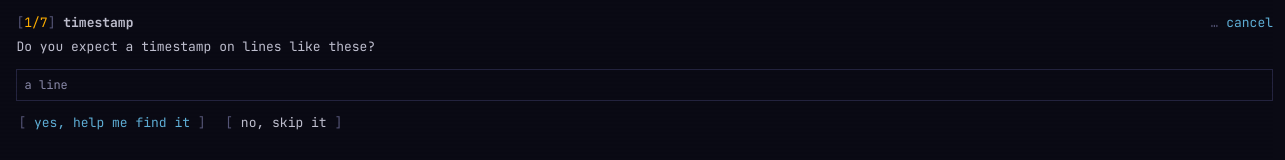
SchemaEditor when the guided walk finishes › shows the preview from onPreview once the walk completes
The width and height of the screenshot is (1285, 160).
Click the button "no, skip it".
click(284, 122)  # box left=223, top=112, right=344, bottom=132
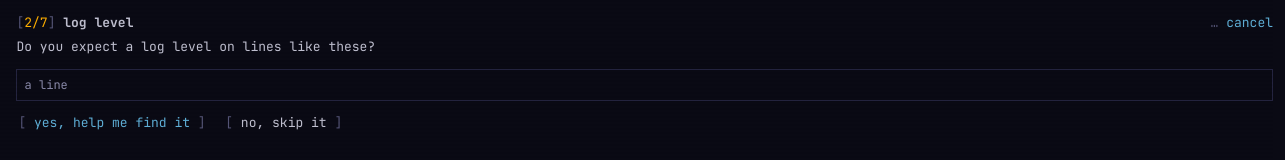
Click the button "no, skip it".
click(284, 122)  # box left=223, top=112, right=344, bottom=132
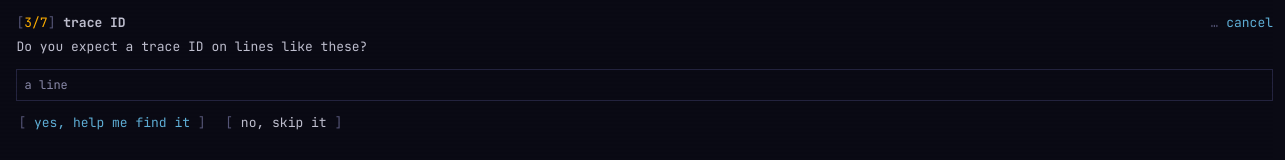
Click the button "no, skip it".
click(284, 122)  # box left=223, top=112, right=344, bottom=132
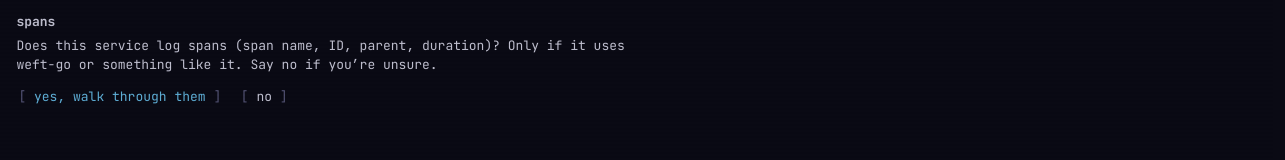
Click the button with test id "se-wizard-spans-no-button".
click(264, 96)  # box left=239, top=86, right=290, bottom=106
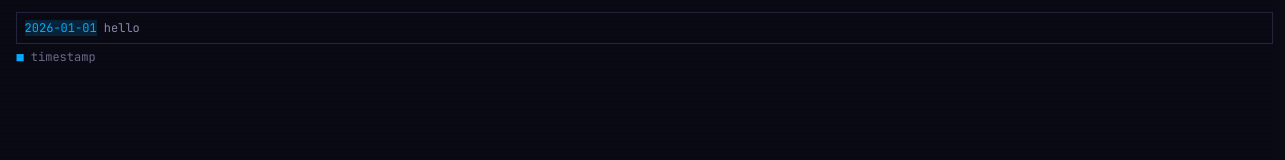
Result: the element with test id "se-preview-line-0" reads "2026-01-01 hello" at left=25, top=20, right=140, bottom=36
Result: the element with test id "se-preview-key-timestamp" is shown at left=16, top=48, right=96, bottom=66
